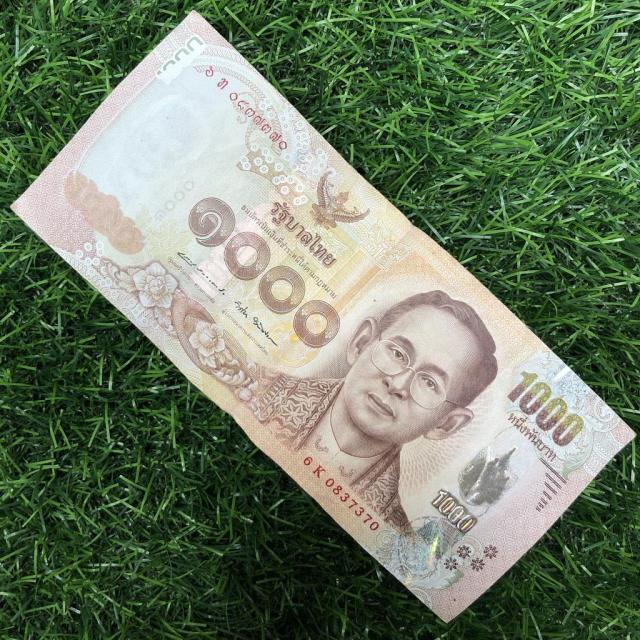THAI1000: (12, 12, 633, 619)
